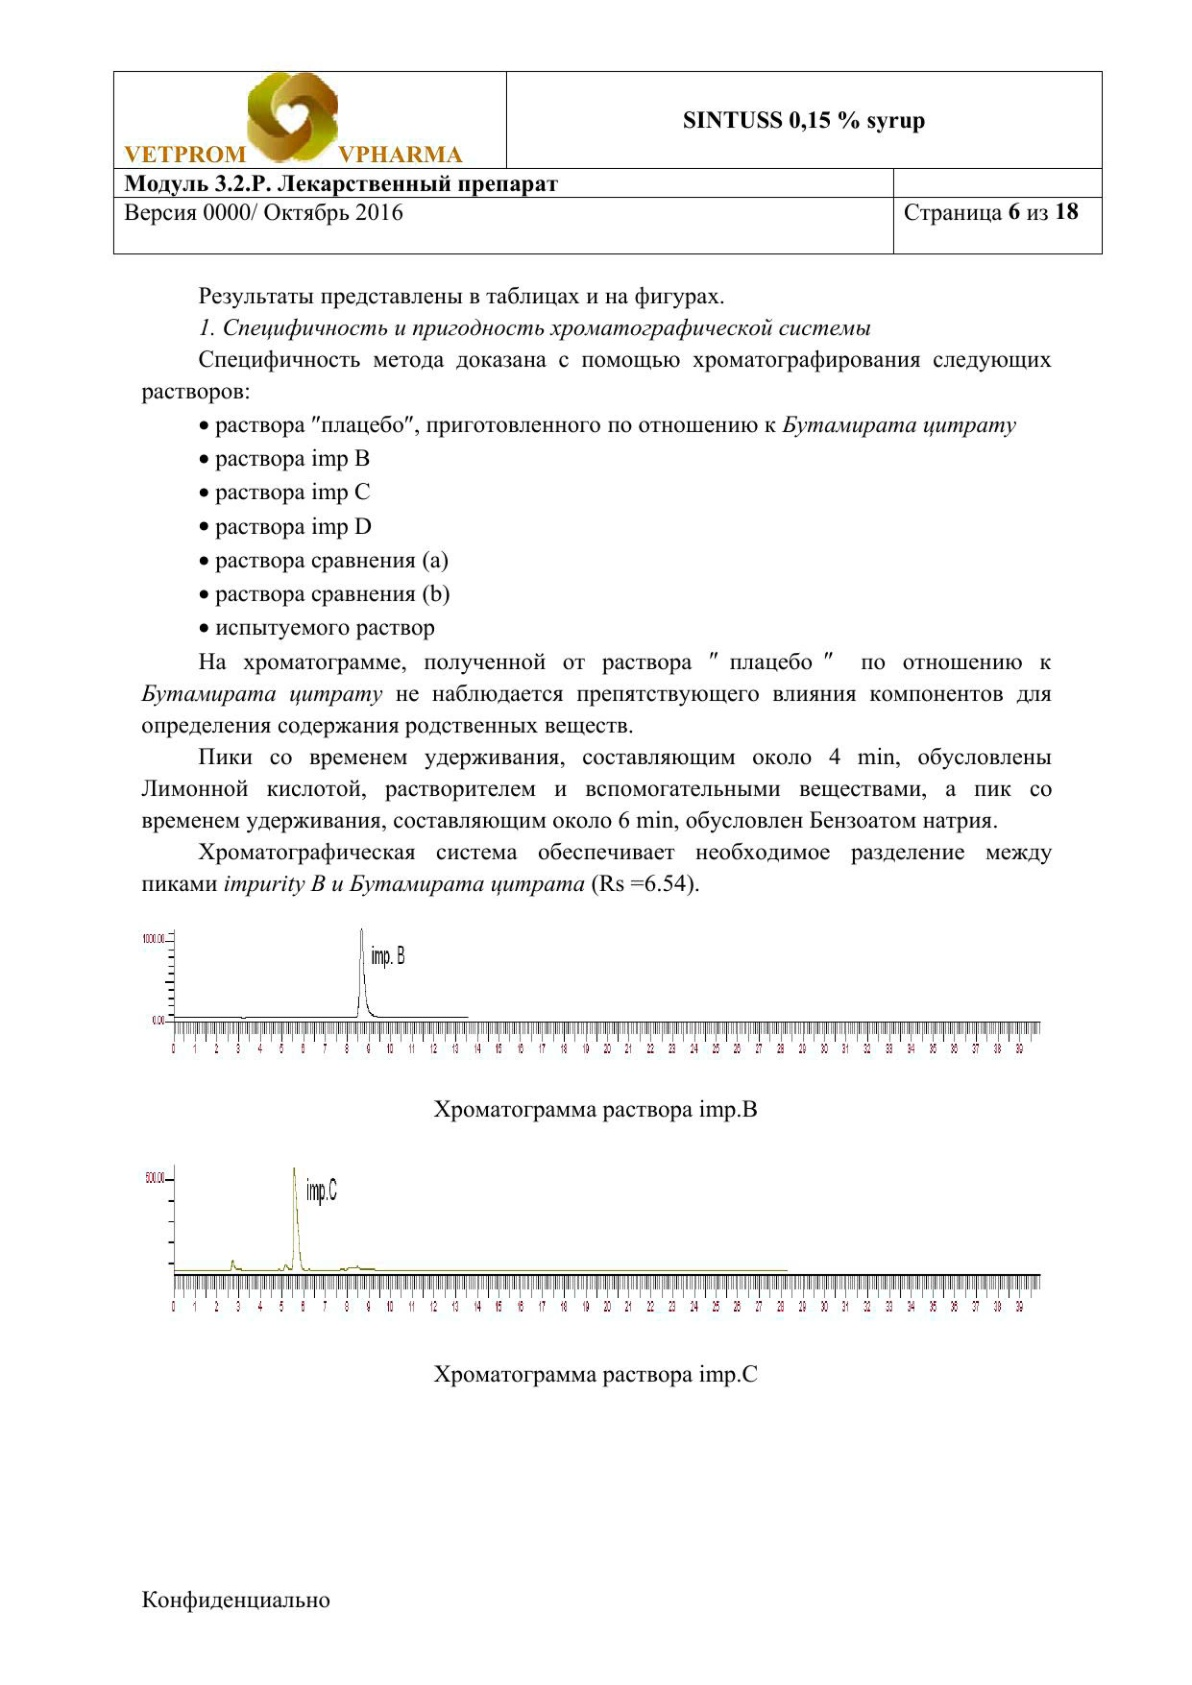merged_cells: (112, 68, 1106, 255)
